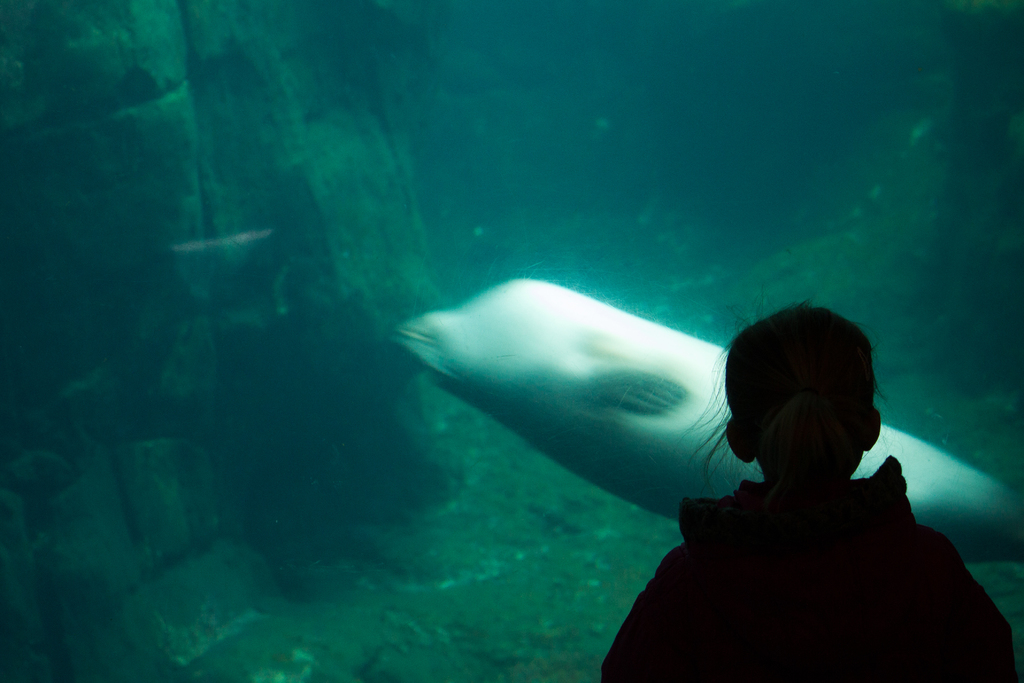Person: (599, 284, 1019, 682)
